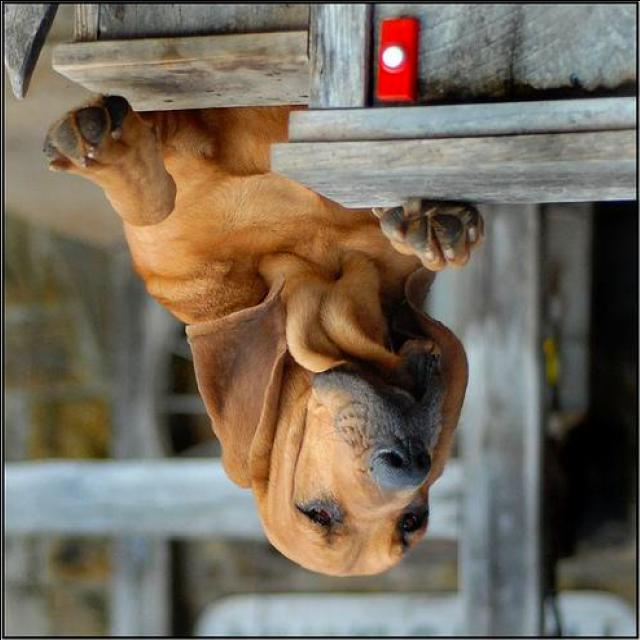bloodhound: (41, 92, 488, 582)
